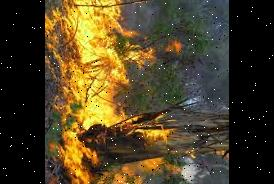fire: (48, 0, 174, 119), (45, 127, 176, 184)
